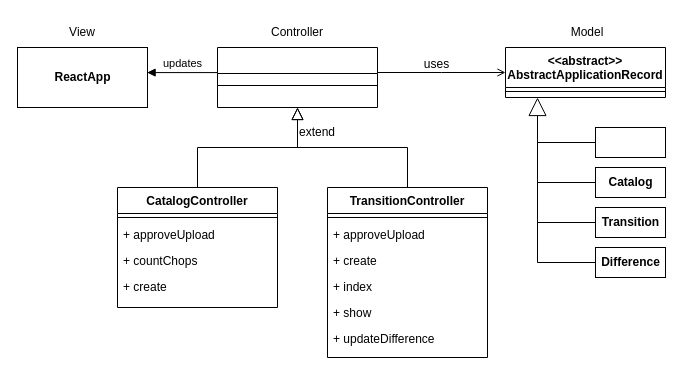
This 683x375 diagram has some shape labels left out. Each missing label, with the centre of its shape:
ApplicationController: the point at 297,77
Chop: the point at 630,142
